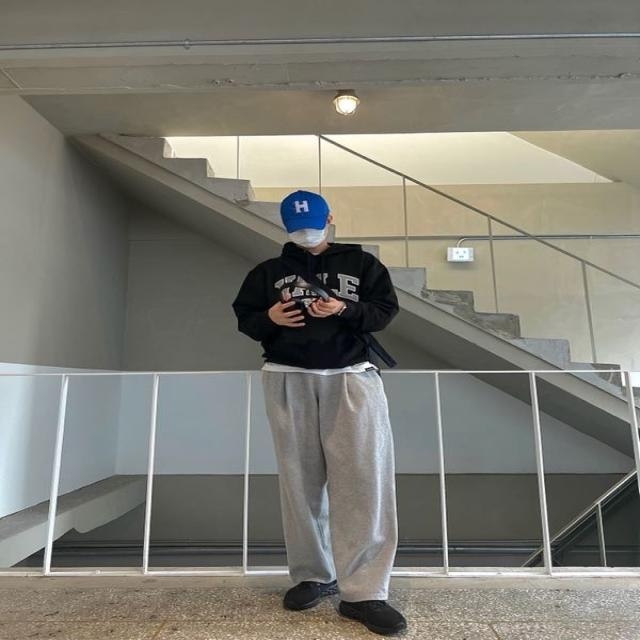hoodies: (232, 241, 397, 367)
trainingpants: (262, 360, 398, 602)
